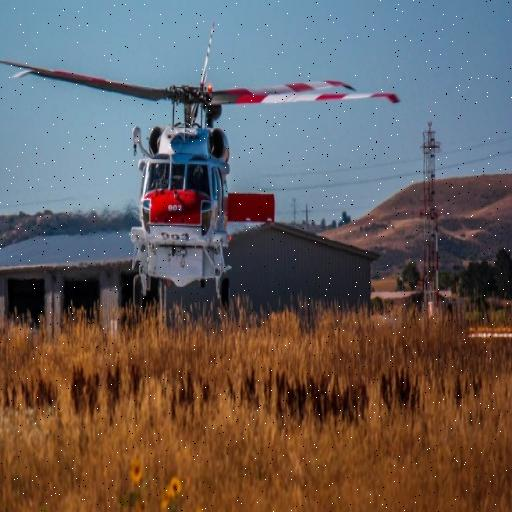helicopter: (1, 44, 402, 321)
